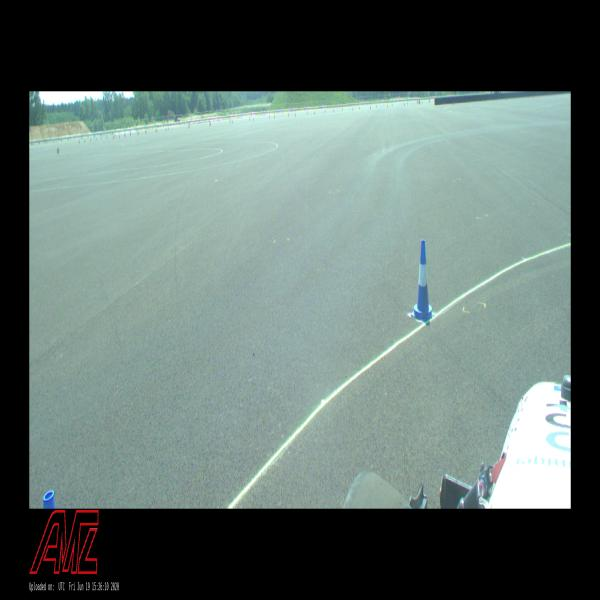blue_cone: (411, 240, 435, 323), (43, 490, 56, 508)
